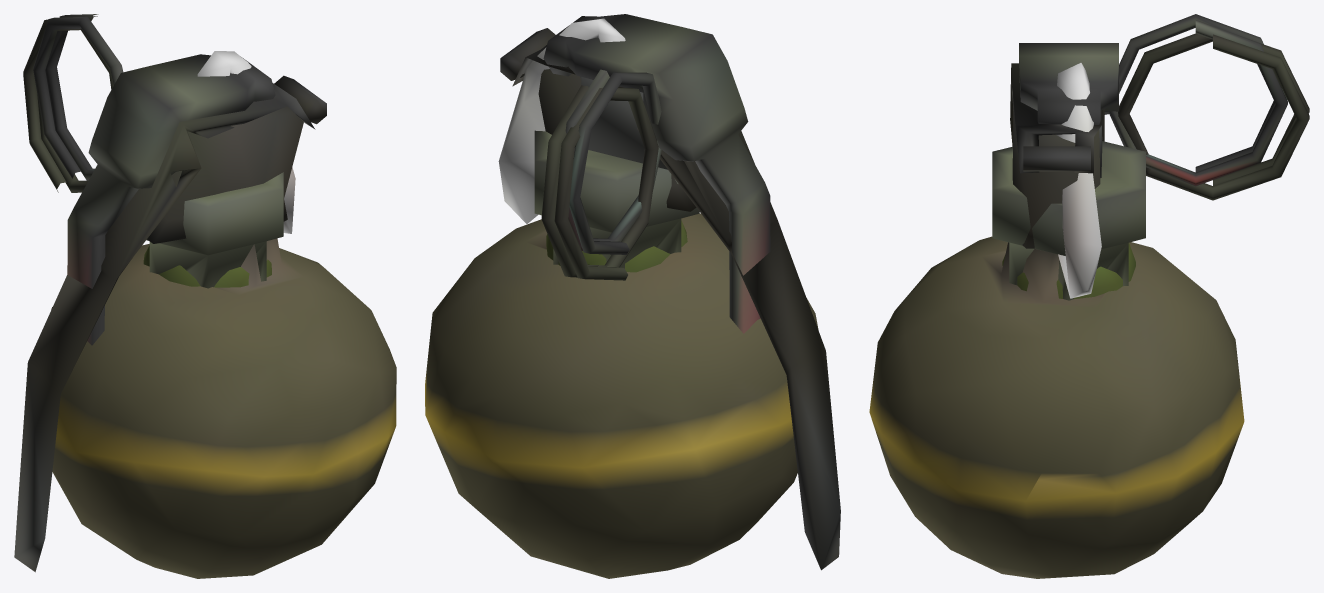
The model's file is grenade.glb.
3 views of the same model, side by side, from view 1: azimuth 30°, elevation 25°; view 2: azimuth 150°, elevation 25°; view 3: azimuth 270°, elevation 25° (orthographic). The views are drawn at different scales.
Visible parts, largest first — view 1: weapons/models/grenade/hegrenade/weapon_hegrenade.vmdl_c.bod, weapons/models/grenade/flashbang/weapon_flashbang.vmdl_c.bod, weapons/models/grenade/molotov/weapon_molotov.vmdl_c.body.00; view 2: weapons/models/grenade/hegrenade/weapon_hegrenade.vmdl_c.bod, weapons/models/grenade/flashbang/weapon_flashbang.vmdl_c.bod, weapons/models/grenade/molotov/weapon_molotov.vmdl_c.body.00; view 3: weapons/models/grenade/hegrenade/weapon_hegrenade.vmdl_c.bod, weapons/models/grenade/flashbang/weapon_flashbang.vmdl_c.bod, weapons/models/grenade/molotov/weapon_molotov.vmdl_c.body.00.
Part boxes in pixels (x1=…): weapons/models/grenade/hegrenade/weapon_hegrenade.vmdl_c.bod: x1=14, y1=16, x2=396, y2=578; weapons/models/grenade/flashbang/weapon_flashbang.vmdl_c.bod: x1=33, y1=14, x2=283, y2=345; weapons/models/grenade/molotov/weapon_molotov.vmdl_c.body.00: x1=143, y1=51, x2=295, y2=287; weapons/models/grenade/hegrenade/weapon_hegrenade.vmdl_c.bod: x1=425, y1=28, x2=840, y2=578; weapons/models/grenade/flashbang/weapon_flashbang.vmdl_c.bod: x1=534, y1=14, x2=770, y2=333; weapons/models/grenade/molotov/weapon_molotov.vmdl_c.body.00: x1=498, y1=18, x2=687, y2=272; weapons/models/grenade/hegrenade/weapon_hegrenade.vmdl_c.bod: x1=869, y1=33, x2=1309, y2=578; weapons/models/grenade/flashbang/weapon_flashbang.vmdl_c.bod: x1=992, y1=14, x2=1287, y2=300; weapons/models/grenade/molotov/weapon_molotov.vmdl_c.body.00: x1=1002, y1=63, x2=1135, y2=298.
Size of the model in its own units: 0.8655 by 1.22 by 0.933.
